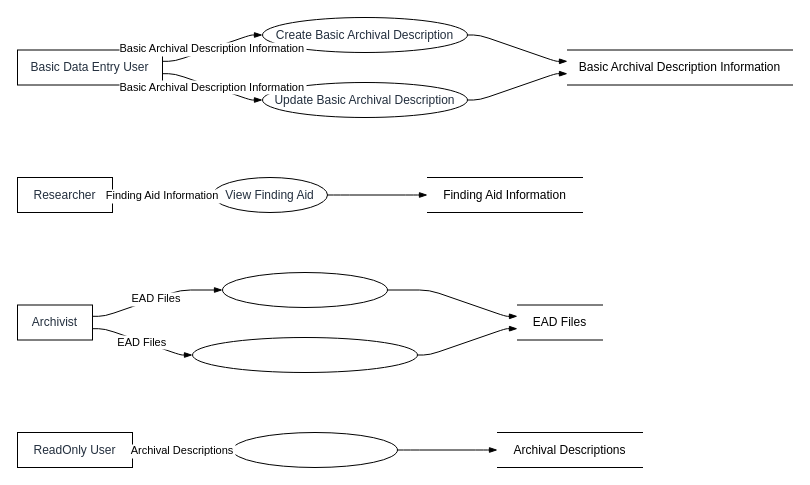
This 810x485 diagram has some shape labels left out. The centre of each missing label's shape, as x and y in pixels:
Import EAD Files (Archivists' Toolkit): pixel 305 354
Import EAD Files (Archon): pixel 305 290
View Archival Descriptions: pixel 315 450
